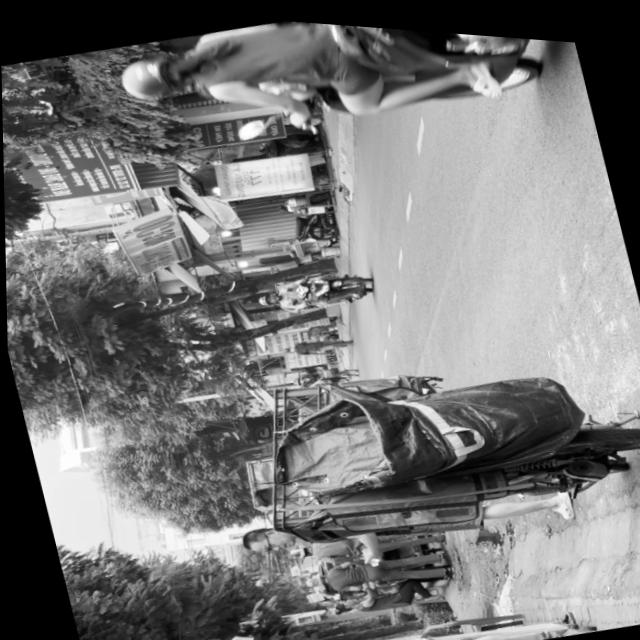helmet: (112, 40, 195, 106)
licenseplate: (105, 6, 587, 182)
